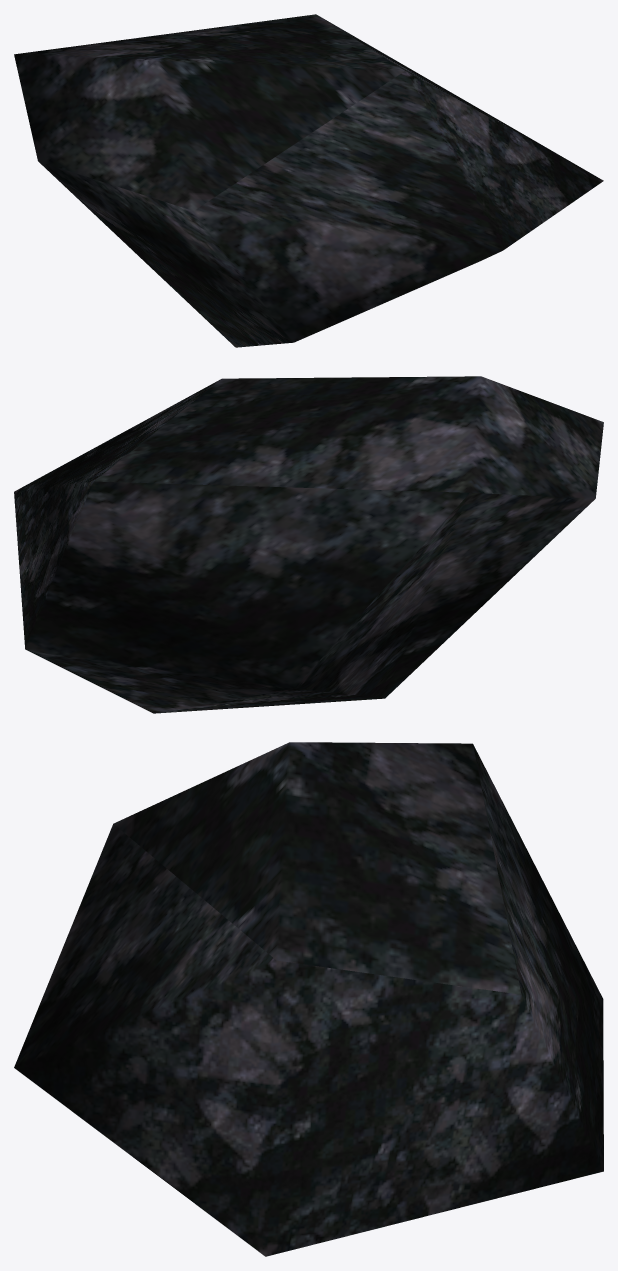
File: asteroid_obsidian_radial_s03_l3.fbx
3 views of the same model, one above another, from view 1: azimuth 30°, elevation 25°; view 2: azimuth 150°, elevation 25°; view 3: azimuth 270°, elevation 25° (orthographic). The views are drawn at different scales.
Visible parts, largest first — view 1: mesh_node; view 2: mesh_node; view 3: mesh_node.
Part boxes in pixels (bbox=[...]): mesh_node: bbox=[14, 14, 603, 347]; mesh_node: bbox=[14, 376, 603, 713]; mesh_node: bbox=[14, 742, 603, 1256].
Bounding box in the file's own units: 5.98 × 3.24 × 4.68.
1 material, 1 textured.
